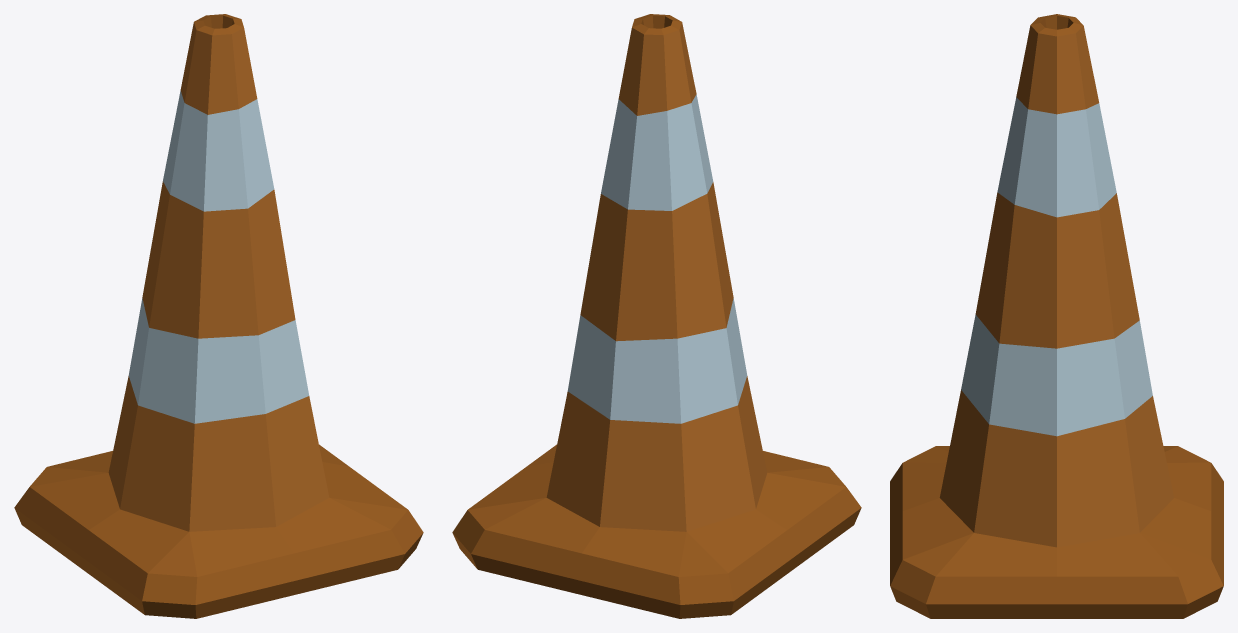
The picture shows the model from 3 angles, left to right: view 1: azimuth 30°, elevation 25°; view 2: azimuth 150°, elevation 25°; view 3: azimuth 270°, elevation 25°; orthographic projection. The views are drawn at different scales.
Visible parts, largest first — view 1: SM_Prop_Cone_01; view 2: SM_Prop_Cone_01; view 3: SM_Prop_Cone_01.
Boxes of the visible parts, left/top/right/bottom form: SM_Prop_Cone_01: left=14, top=14, right=423, bottom=618; SM_Prop_Cone_01: left=452, top=14, right=861, bottom=618; SM_Prop_Cone_01: left=890, top=14, right=1223, bottom=618.
Bounding box in the file's own units: 0.4874 × 0.8515 × 0.4874.
Materials: 1 (1 with a texture image).
